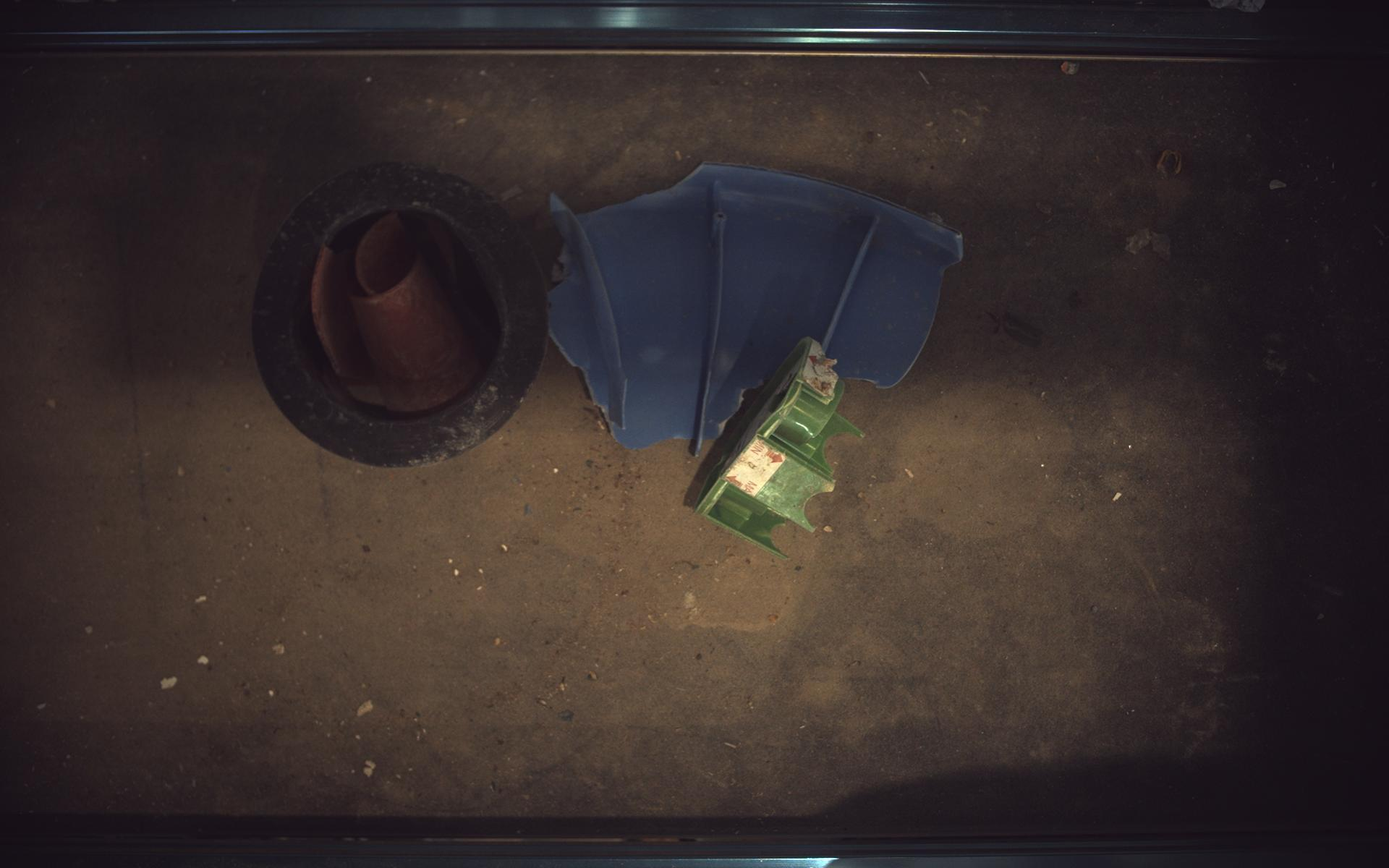plastic: (549, 163, 964, 455), (252, 162, 548, 467), (310, 210, 498, 414), (697, 336, 862, 553)
